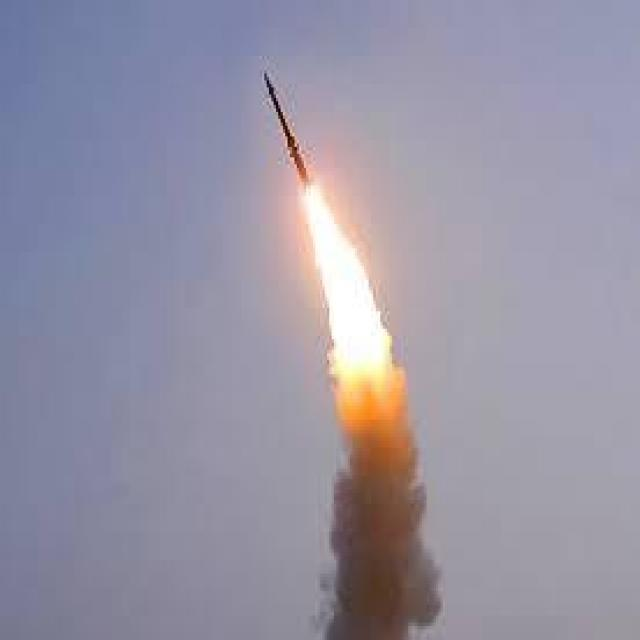rocket: (262, 67, 359, 361)
